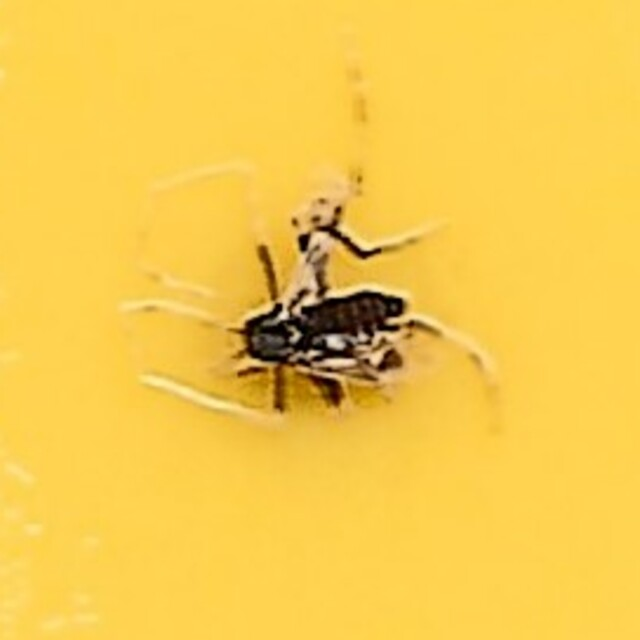Nematocera: (235, 276, 405, 364)
